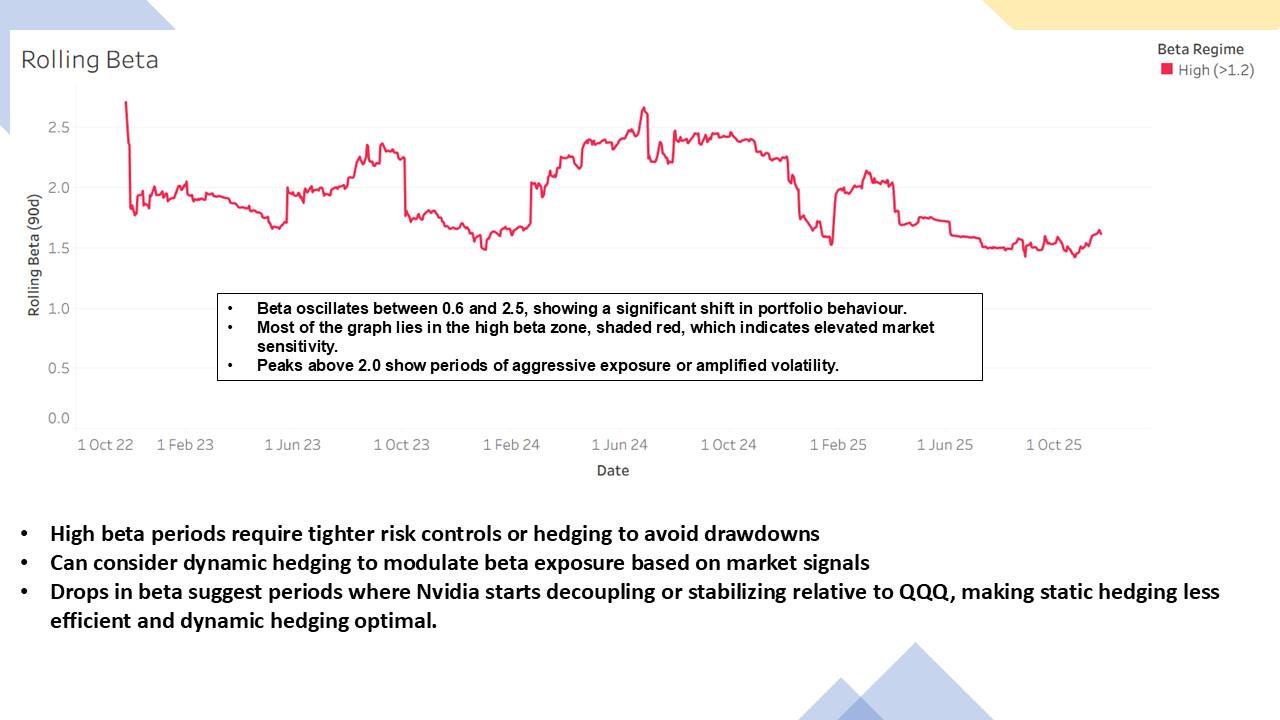

This screenshot's page, from the dashboard's own definition file:
{"tool":"tableau","page":{"name":"Rolling Beta Graph","canvas":[1000,1000],"units":"permille","ordinal":7},"visuals":[{"type":"worksheet","title":"Rolling Beta","mark":"Automatic","cols":["Date"],"box":[5,10.7,890.3,978.6]},{"type":"legend","title":"Rolling Beta","param":"[federated.0bg4tcu033rbq71aozf0k10hee3w].[usr:Calculation_501306942901313592:nk:","box":[895.3,10.7,99.8,79.1]}]}

Visuals, with their boxes on the dashboard's canvas, which has no fixed pixel size, in thousandths of its width and height (x1, y1, x2, y2). These are canvas units, not pixel positions in the 1280x720 screenshot, which may show the page scaled, cropped or inside an application window:
"Rolling Beta" worksheet: rect(5, 11, 895, 989)
"Rolling Beta" legend: rect(895, 11, 995, 90)
